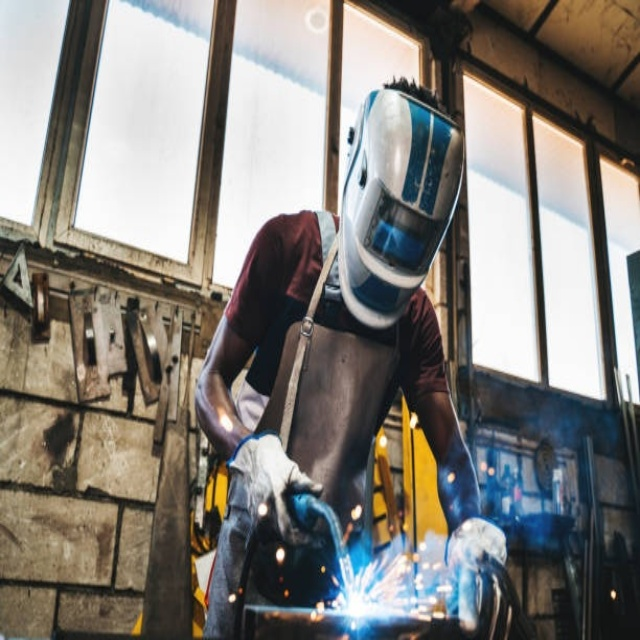Guantes: (227, 431, 325, 545), (445, 516, 509, 636)
